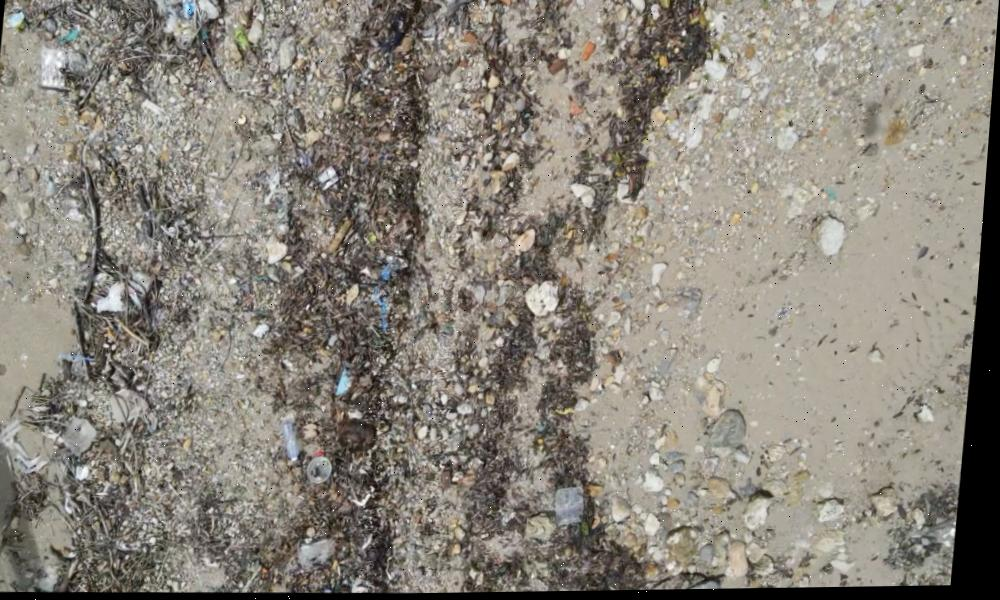plastic bag: (290, 527, 349, 580), (99, 280, 135, 322)
plastic bottle: (282, 415, 312, 470)
plastic container: (555, 481, 600, 536), (33, 43, 71, 92), (314, 453, 346, 490), (0, 353, 13, 397)
